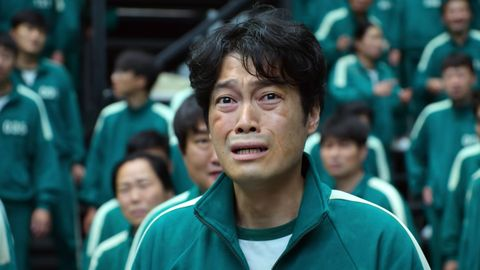without_mask: (200, 51, 302, 175), (116, 166, 163, 217), (321, 133, 360, 173), (110, 59, 147, 94), (15, 19, 47, 52), (441, 67, 469, 97), (358, 29, 383, 60)
